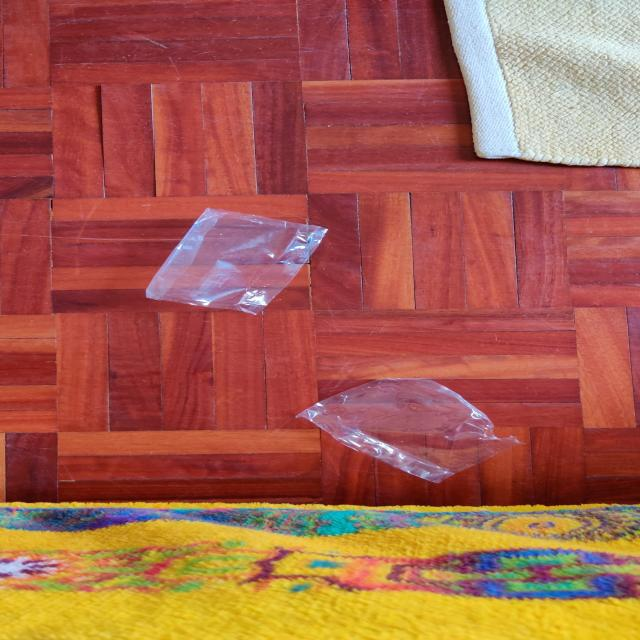litter: (292, 374, 531, 483), (141, 208, 330, 315)
